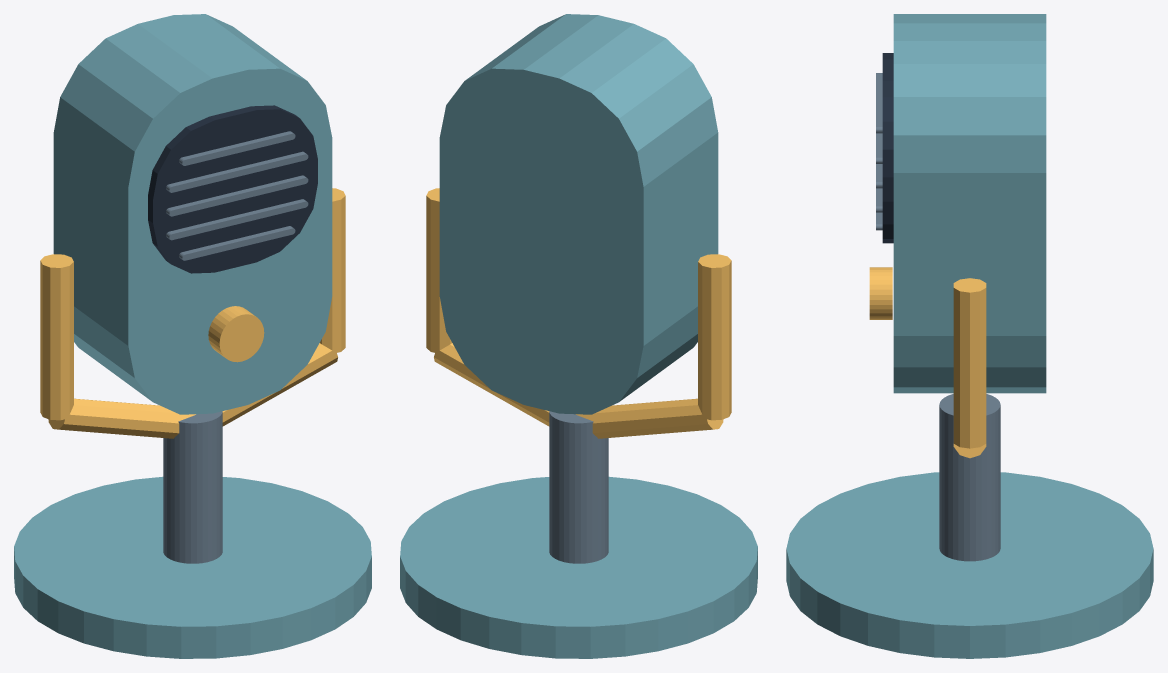
Rendered from mic.glb.
The picture shows the model from 3 angles, left to right: view 1: azimuth 30°, elevation 25°; view 2: azimuth 150°, elevation 25°; view 3: azimuth 270°, elevation 25°; orthographic projection. The views are drawn at different scales.
Parts seen in each view (by area): view 1: capsule, base, grille, stand, yoke0, yoke1, yoke3, mute key, mesh bar 3, mesh bar 1, mesh bar 2, yoke2 (+2 smaller); view 2: capsule, base, stand, yoke0, yoke1, yoke3, yoke2; view 3: capsule, base, stand, yoke3, grille, mute key.
Part boxes in pixels (box(x1,y1,x2,y2)): capsule: box(53, 14, 332, 414); base: box(14, 476, 371, 658); grille: box(148, 105, 317, 273); stand: box(163, 411, 222, 563); yoke0: box(40, 254, 73, 420); yoke1: box(48, 398, 195, 438); yoke3: box(320, 188, 345, 352); mute key: box(208, 306, 264, 362); mesh bar 3: box(166, 151, 308, 192); mesh bar 1: box(166, 199, 308, 240); mesh bar 2: box(166, 175, 308, 216); yoke2: box(222, 343, 337, 426); capsule: box(439, 14, 718, 414); base: box(400, 476, 757, 658); stand: box(549, 411, 608, 563); yoke0: box(698, 254, 731, 420); yoke1: box(576, 398, 723, 438); yoke3: box(426, 188, 451, 352); yoke2: box(434, 343, 549, 426); capsule: box(893, 14, 1046, 393); base: box(786, 472, 1153, 658); stand: box(939, 394, 1000, 561); yoke3: box(953, 278, 986, 448); grille: box(882, 53, 893, 243); mute key: box(869, 267, 892, 319).
Bounding box in the file's own units: 0.96 × 1.59 × 0.96.
